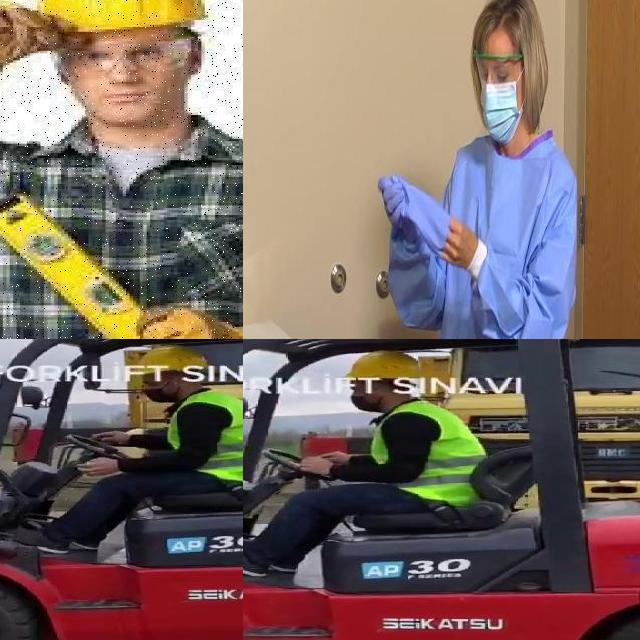GLASS: (56, 40, 198, 79)
GLOVE: (0, 0, 53, 107), (131, 295, 243, 339), (378, 166, 408, 238)
HELMET: (37, 0, 205, 31)
MASK: (478, 81, 524, 142)
